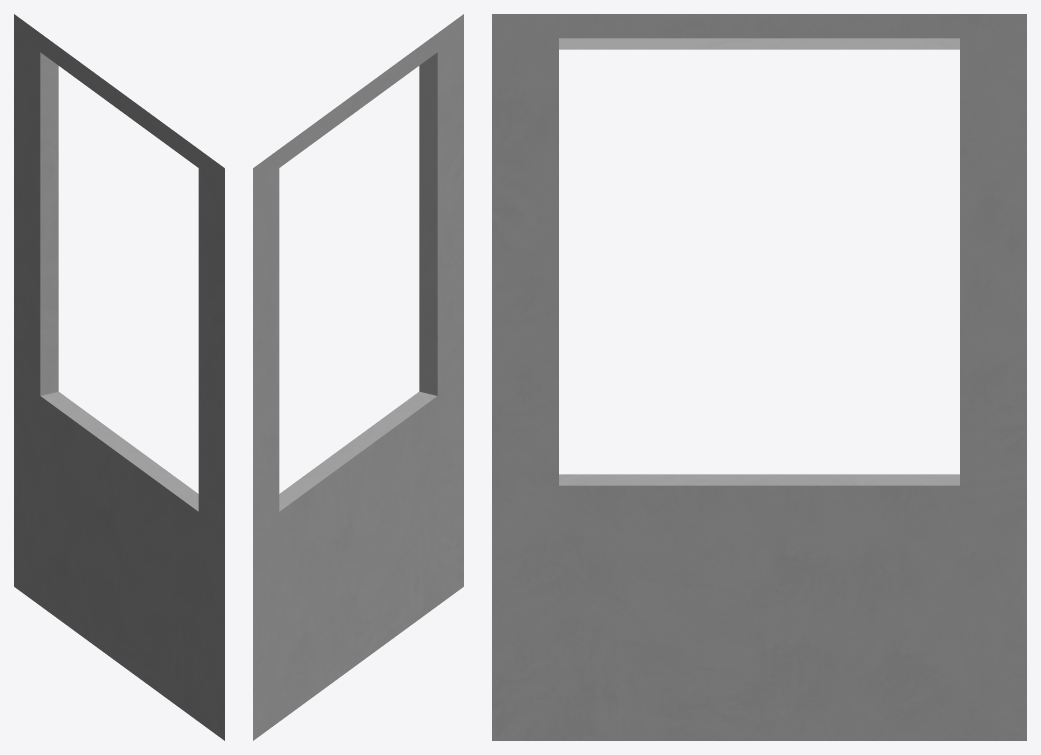
Rendered from SM_GenericWall_01_200_Window.fbx.
The picture shows the model from 3 angles, left to right: view 1: azimuth 30°, elevation 25°; view 2: azimuth 150°, elevation 25°; view 3: azimuth 270°, elevation 25°; orthographic projection. The views are drawn at different scales.
Visible parts, largest first — view 1: SM_GenericWall_01_200_Window_LOD0; view 2: SM_GenericWall_01_200_Window_LOD0; view 3: SM_GenericWall_01_200_Window_LOD0.
Part boxes in pixels (x1=…): SM_GenericWall_01_200_Window_LOD0: x1=14, y1=14, x2=224, y2=740; SM_GenericWall_01_200_Window_LOD0: x1=253, y1=14, x2=463, y2=740; SM_GenericWall_01_200_Window_LOD0: x1=492, y1=14, x2=1026, y2=740.
Size of the model in its own units: 10 by 200 by 300.
